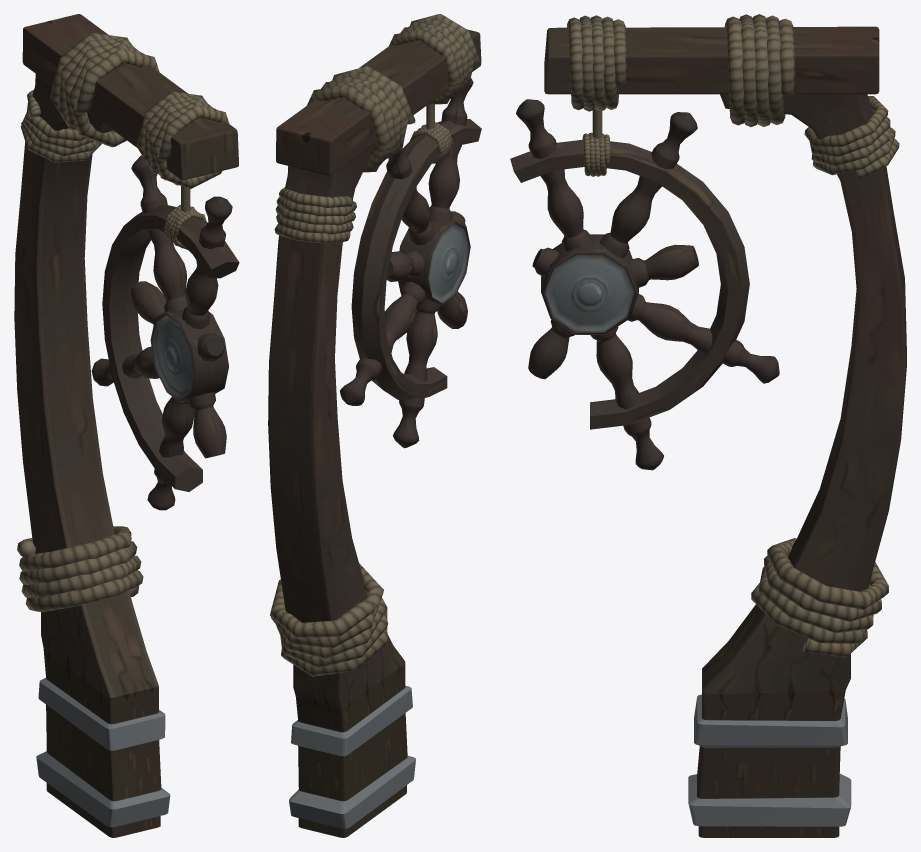
The model's file is Lamppost.fbx.
3 renders of one model, left to right at view 1: azimuth 30°, elevation 25°; view 2: azimuth 150°, elevation 25°; view 3: azimuth 270°, elevation 25°, orthographic. The views are drawn at different scales.
Visible parts, largest first — view 1: Post, WheelRim, pCube1, pHelix3, pHelix6, WheelCentre2, pHelix5, Spool, Spool8, pHelix2, Spool5, Spool12 (+4 smaller); view 2: Post, WheelRim, pCube1, pHelix3, pHelix6, WheelCentre2, pHelix2, pHelix5, Spool5, Spool6, Spool8, Spool (+3 smaller); view 3: Post, pCube1, WheelRim, pHelix3, WheelCentre2, pHelix6, pHelix5, pHelix2, Spool8, Spool, Spool6, Spool5 (+3 smaller).
Part boxes in pixels (box(x1,y1,x2,y2)): Post: box(14, 74, 170, 837); WheelRim: box(102, 205, 239, 491); pCube1: box(22, 14, 238, 180); pHelix3: box(17, 526, 143, 612); pHelix6: box(50, 33, 159, 147); WheelCentre2: box(150, 310, 228, 402); pHelix5: box(136, 91, 229, 188); Spool: box(131, 155, 187, 312); Spool8: box(182, 196, 232, 329); pHelix2: box(20, 89, 101, 162); Spool5: box(147, 396, 194, 510); Spool12: box(187, 392, 226, 458); Post: box(268, 141, 415, 837); WheelRim: box(351, 119, 481, 399); pCube1: box(276, 29, 481, 175); pHelix3: box(270, 563, 388, 676); pHelix6: box(307, 66, 415, 172); WheelCentre2: box(398, 218, 470, 306); pHelix2: box(274, 187, 356, 243); pHelix5: box(389, 14, 480, 104); Spool5: box(393, 300, 439, 448); Spool6: box(340, 282, 425, 405); Spool8: box(428, 78, 473, 222); Spool: box(386, 145, 435, 244); Post: box(688, 94, 906, 837); pCube1: box(544, 26, 879, 94); WheelRim: box(510, 139, 749, 429); pHelix3: box(751, 538, 888, 657); WheelCentre2: box(541, 234, 638, 334); pHelix6: box(724, 14, 795, 126); pHelix5: box(566, 15, 627, 111); pHelix2: box(804, 96, 899, 179); Spool8: box(516, 99, 593, 251); Spool: box(599, 112, 697, 258); Spool6: box(628, 294, 779, 383); Spool5: box(590, 326, 663, 470).
Size of the model in its own units: 0.8226 by 5.66 by 2.53.
